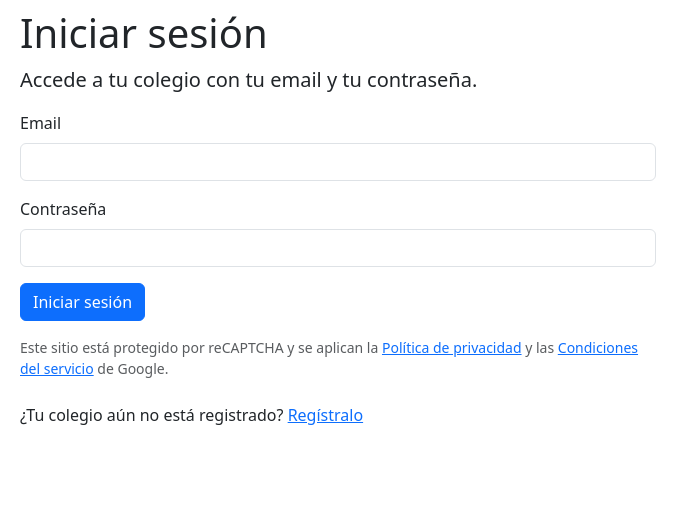
Test: LoginPage: the answers of the server › credentials that are not valid › shows the generic message, without saying which of the two is wrong
In the field labelled "Email": (338, 162) top-left (20, 143), bottom-right (656, 181), type "jose.garcia@example.com"
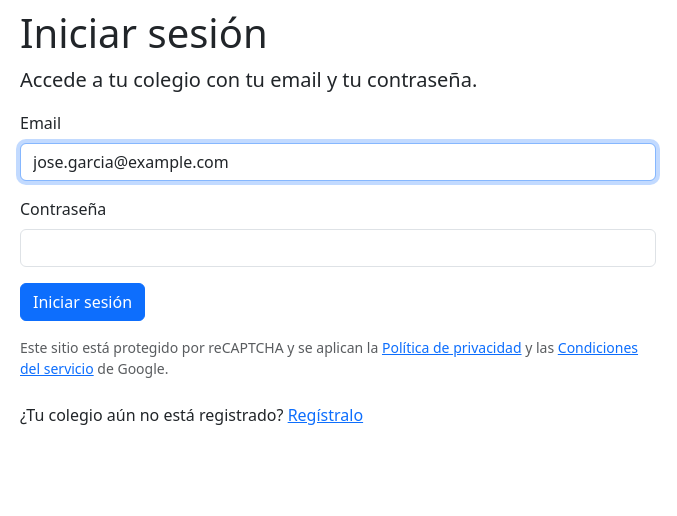
In the password field labelled "Contraseña": (338, 248) top-left (20, 229), bottom-right (656, 267), type "Secreta123!"
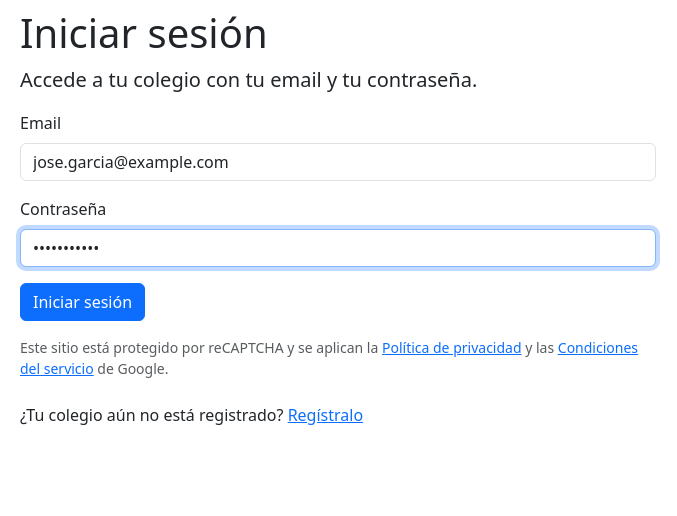
Click the button "Iniciar sesión": (82, 302) top-left (20, 283), bottom-right (145, 321)
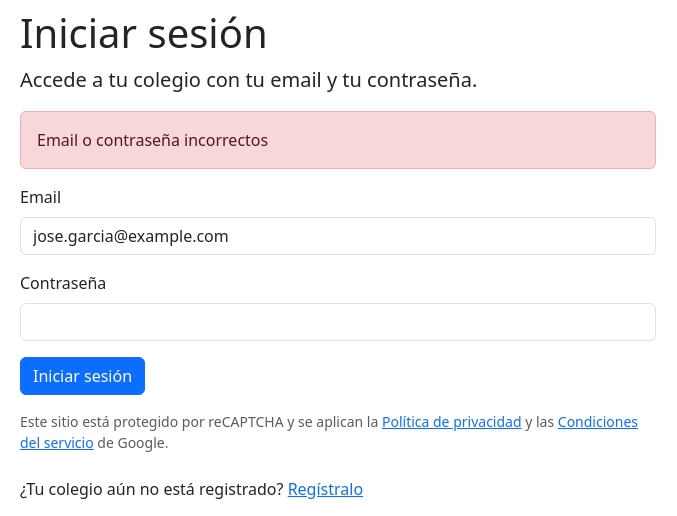
Expected: the message reads "Email o contraseña incorrectos", top-left (37, 129), bottom-right (268, 151)
